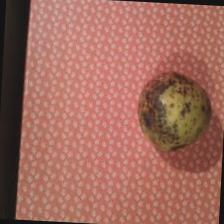Mango Overripe: (130, 67, 215, 153)
